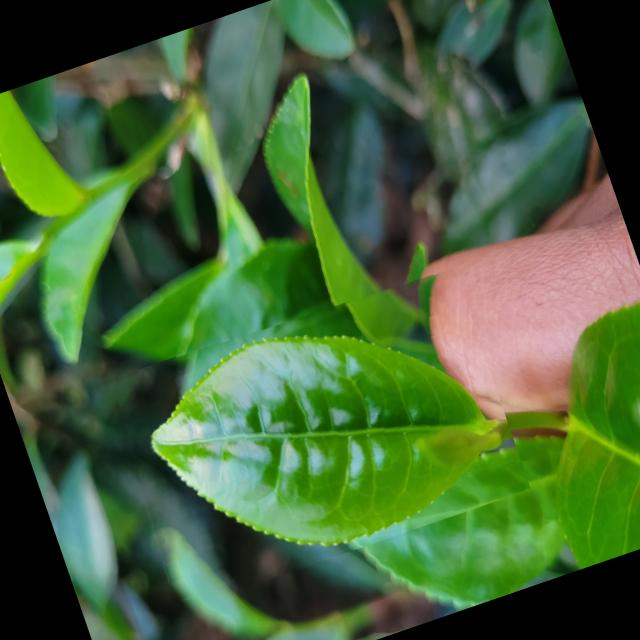Catagory A(1-2 days): (99, 259, 530, 609)
